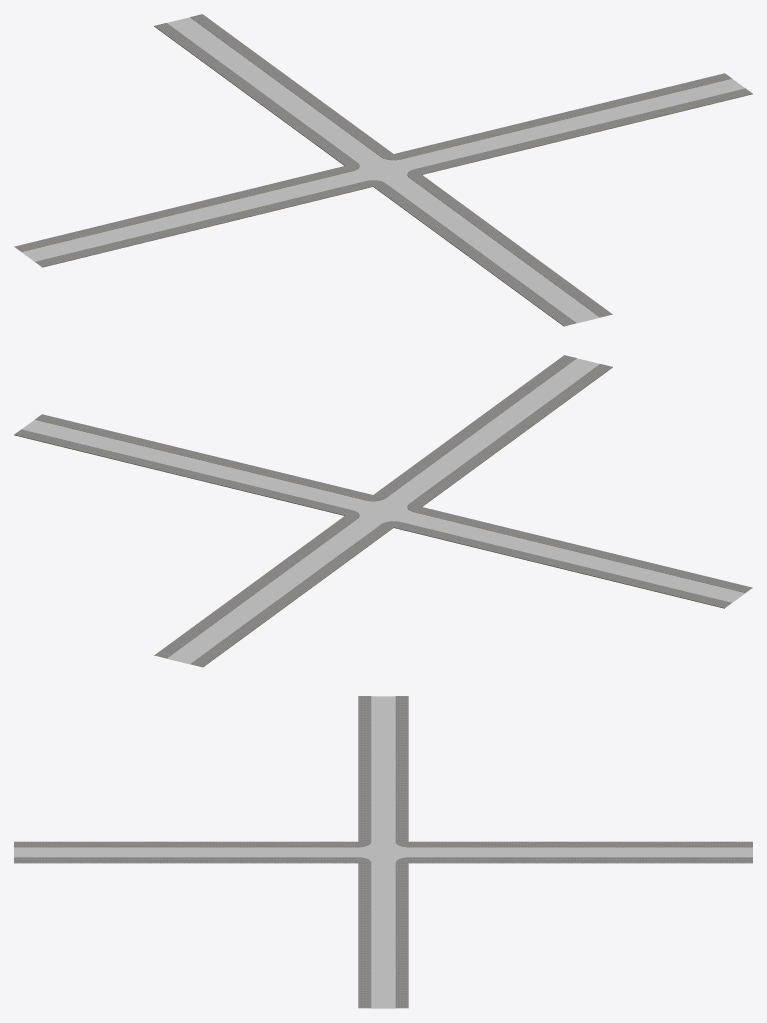
The model's file is Road_2018.fbx.
The picture shows the model from 3 angles, top to bottom: view 1: azimuth 30°, elevation 25°; view 2: azimuth 150°, elevation 25°; view 3: azimuth 270°, elevation 25°; orthographic projection. The views are drawn at different scales.
Visible parts, largest first — view 1: Big_Road_Crossroads; view 2: Big_Road_Crossroads; view 3: Big_Road_Crossroads.
Part boxes in pixels (x1,y1,x2,y2): Big_Road_Crossroads: [14, 14, 752, 326]; Big_Road_Crossroads: [14, 355, 752, 667]; Big_Road_Crossroads: [14, 696, 752, 1008].
Size of the model in its own units: 693 by 0.5452 by 693.
